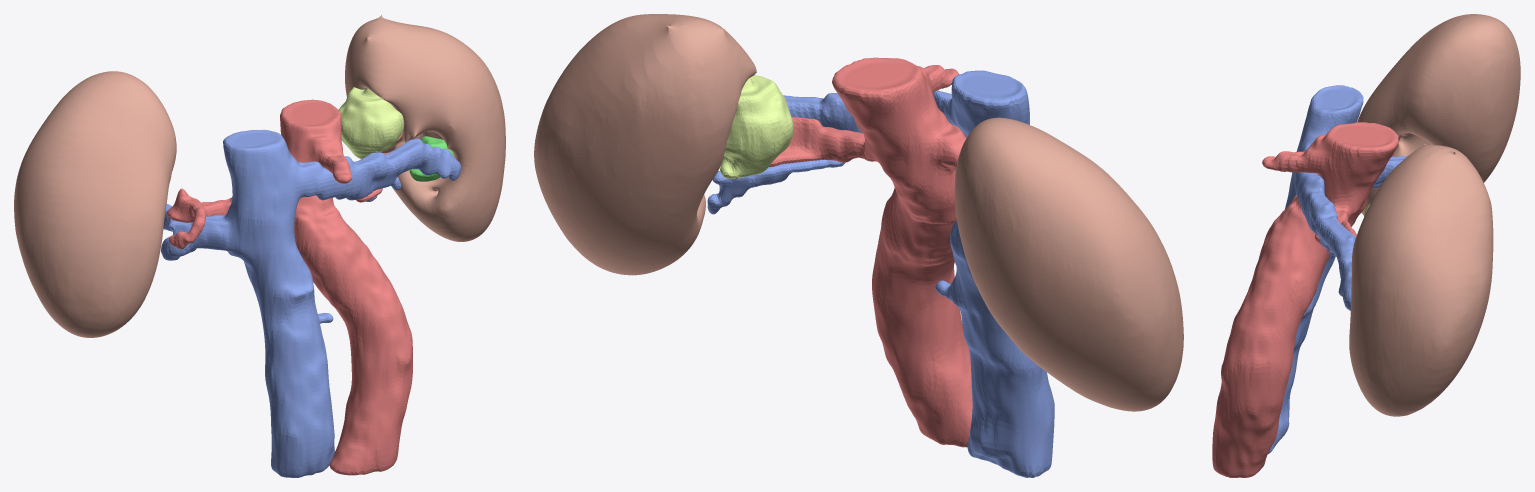
Rendered from Model_1_updated_colors.glb.
3 views of the same model, side by side, from view 1: azimuth 30°, elevation 25°; view 2: azimuth 150°, elevation 25°; view 3: azimuth 270°, elevation 25° (orthographic). The views are drawn at different scales.
Visible parts, largest first — view 1: Kidney, Veins, Artery, Cystic; view 2: Kidney, Artery, Veins, Cystic; view 3: Kidney, Artery, Veins.
Boxes of the visible parts, bbox=[...] form: Kidney: bbox=[14, 15, 505, 337]; Veins: bbox=[161, 129, 461, 477]; Artery: bbox=[167, 99, 412, 475]; Cystic: bbox=[338, 87, 404, 158]; Kidney: bbox=[534, 14, 1183, 411]; Artery: bbox=[768, 57, 972, 447]; Veins: bbox=[707, 70, 1054, 477]; Cystic: bbox=[720, 75, 793, 178]; Kidney: bbox=[1349, 14, 1520, 416]; Artery: bbox=[1212, 122, 1398, 477]; Veins: bbox=[1268, 85, 1407, 453].
Bounding box in the file's own units: 220 × 157 × 117.
